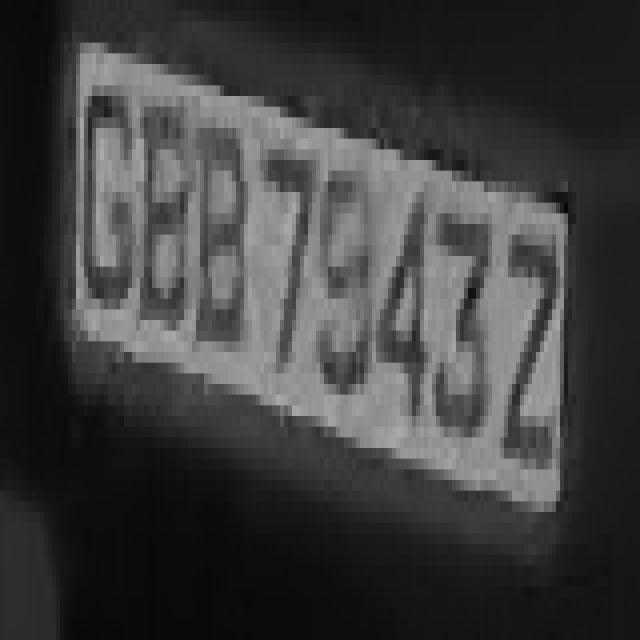3: (428, 170, 500, 490)
4: (372, 182, 436, 469)
7: (248, 96, 316, 416)
9: (316, 107, 380, 480)
B: (192, 85, 256, 438), (140, 64, 192, 416)
G: (72, 21, 136, 342)
Z: (488, 171, 572, 512)
